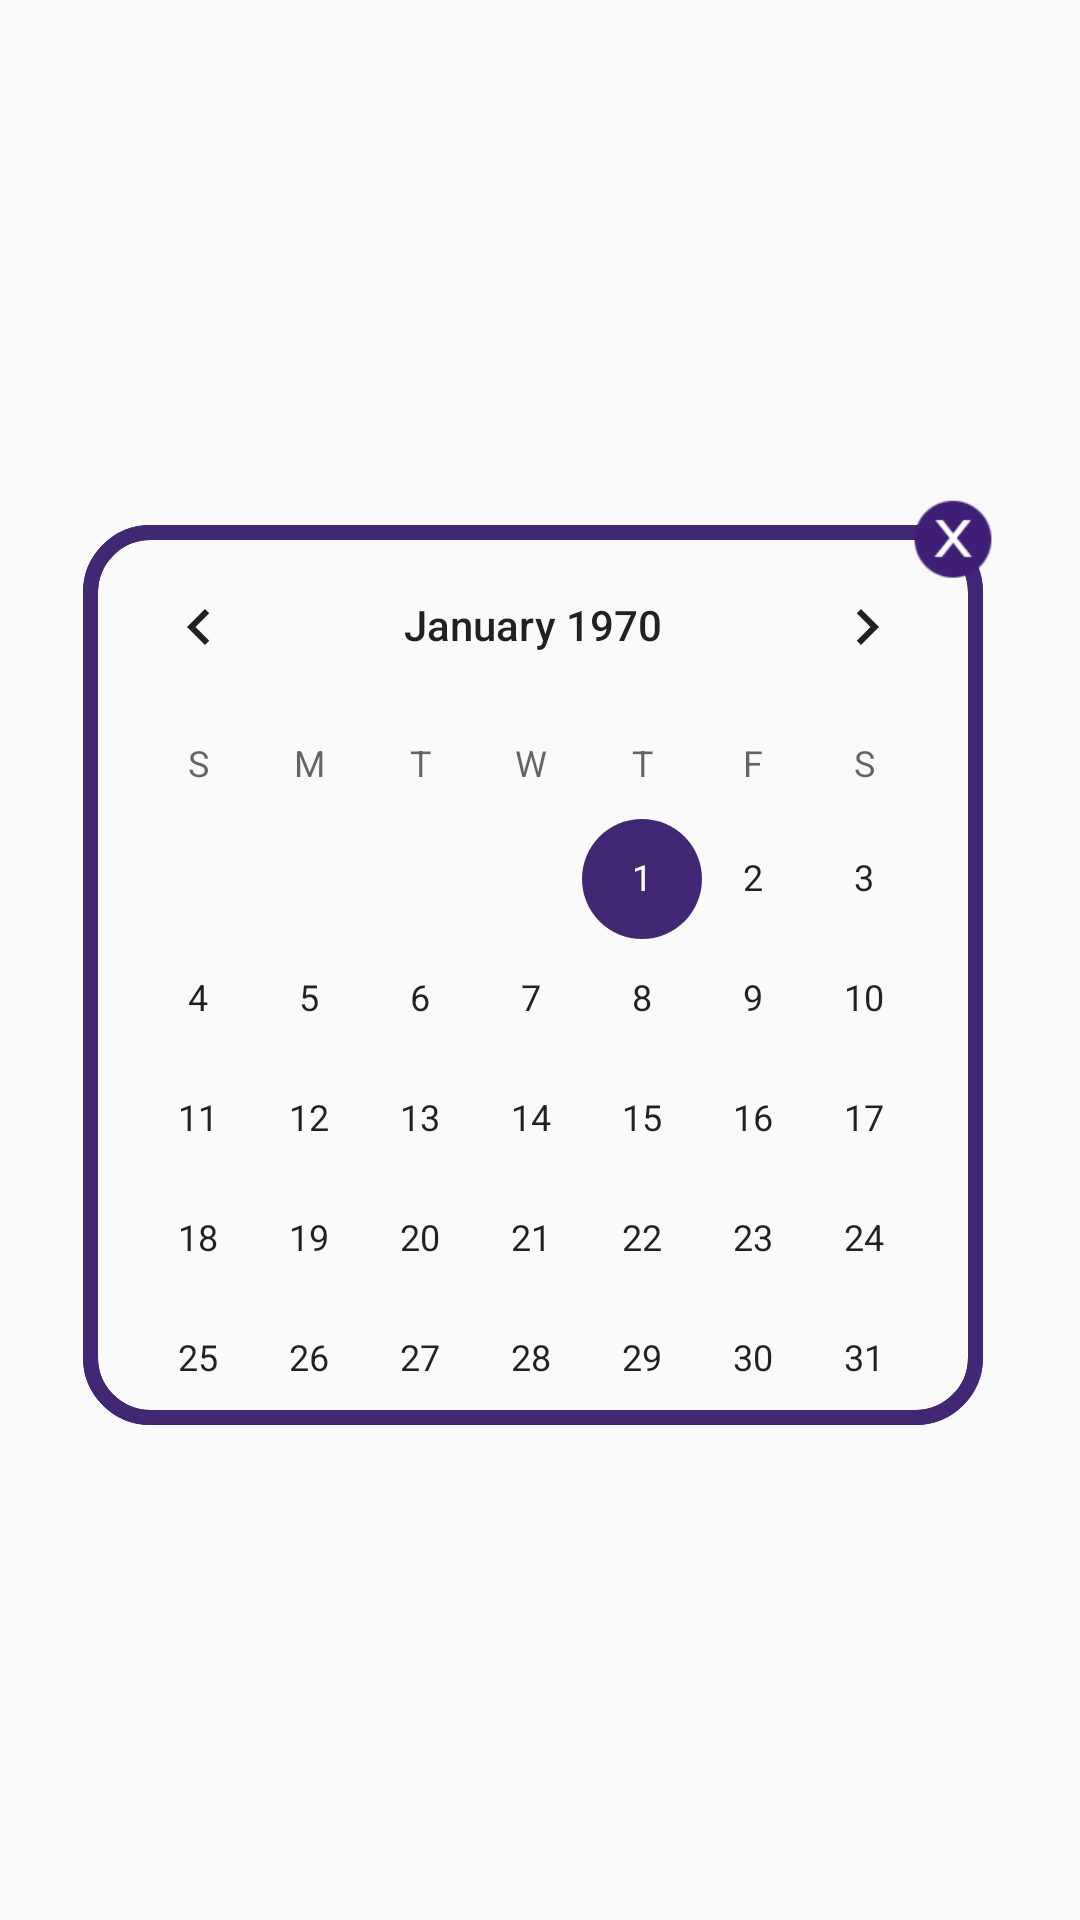

Icons on this 1080x1920 Android screen, each with its box as (x1, y1, x2, y2):
cancle: (908, 500, 992, 585)
